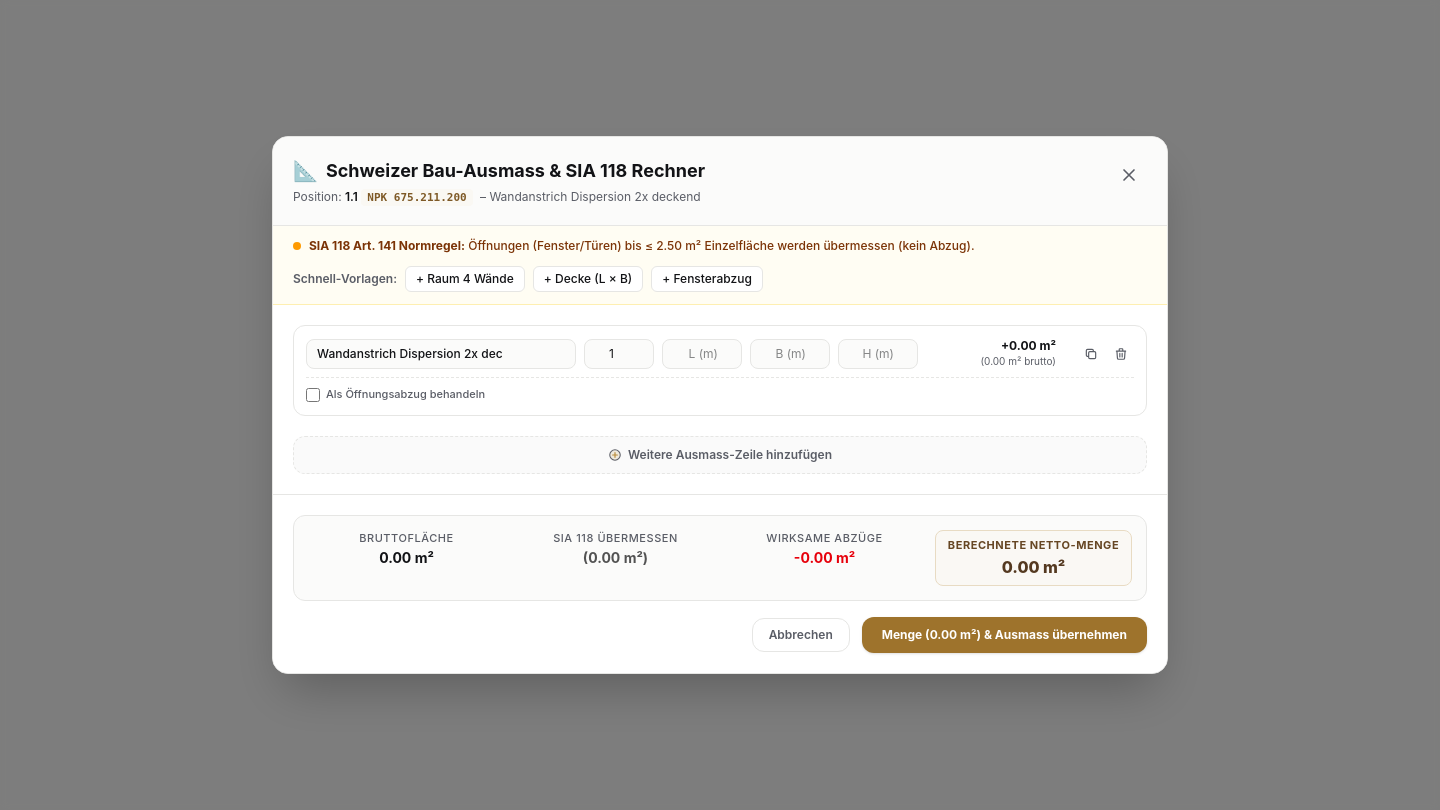
Test: AusmassModal › adds quick template lines when clicked (e.g. Raum Vorlage)
Click the button "+ Raum 4 Wände".
click(465, 279)  # box top-left (405, 266), bottom-right (525, 292)
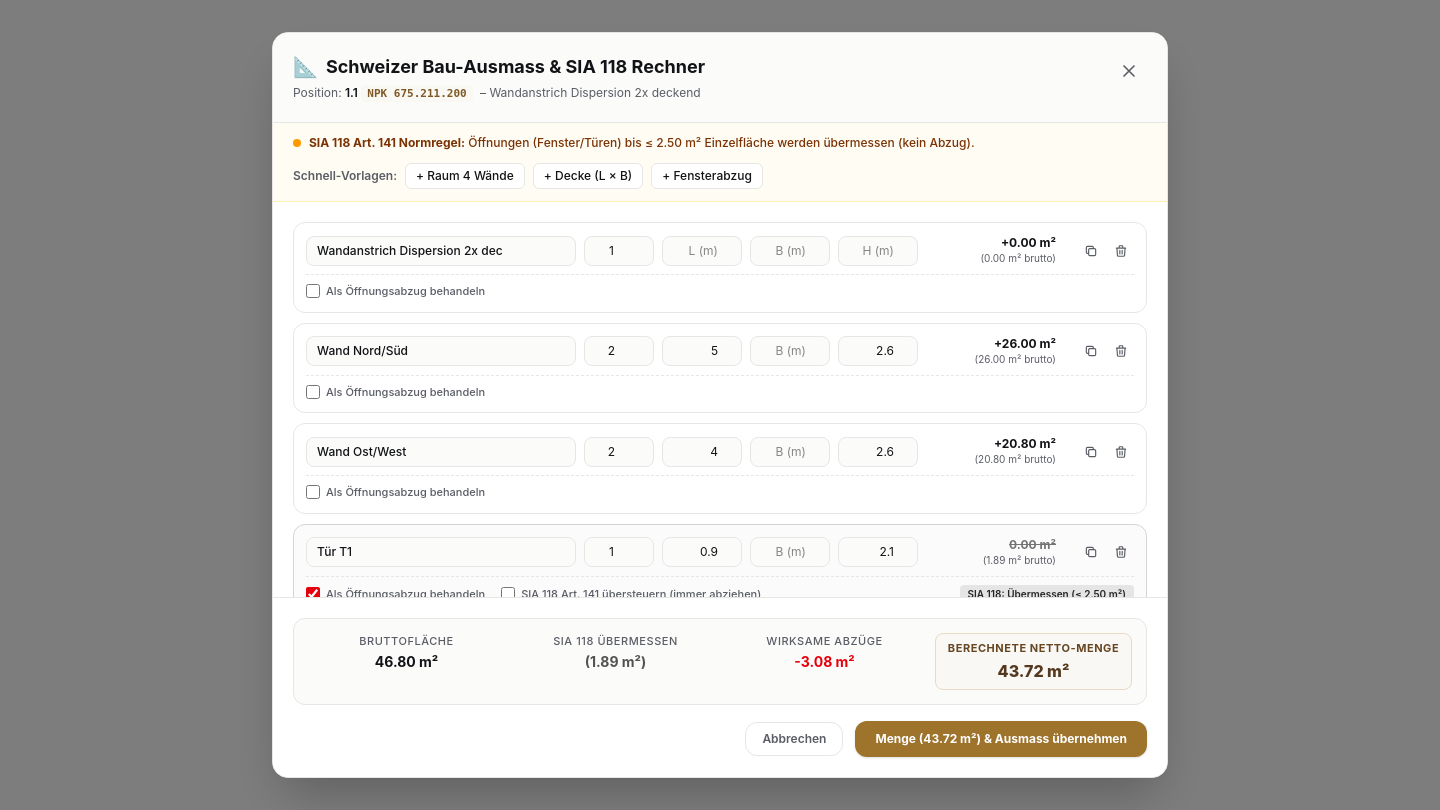
expect the field showing "Wand Nord/Süd" in the row of "+26.00 m²" is shown: met, box top-left (306, 336), bottom-right (576, 366)
expect the 4th field showing "Tür T1" is shown: met, box top-left (306, 537), bottom-right (576, 567)
